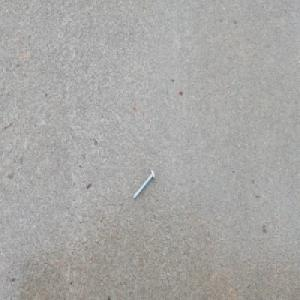Nail: (132, 168, 156, 200)
